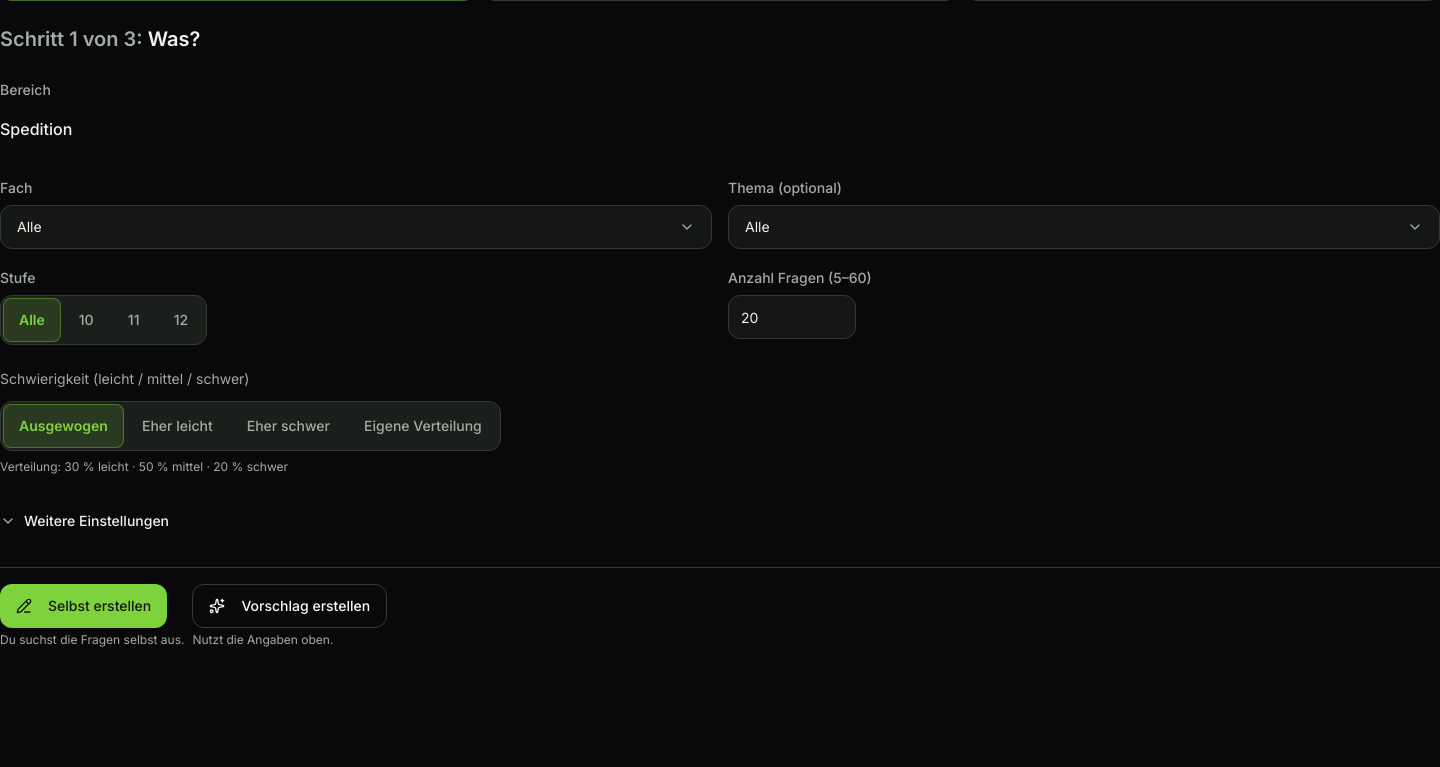
Test case: Nachweis anlegen in drei Schritten (PROJ-133) › führt von „Was?“ über „Prüfen“ zu „Wann und für wen?“ und hält die Schrittleiste aktuell
Click the button with aria-label "Fach: Alle": (29, 226) [0, 205, 712, 249]
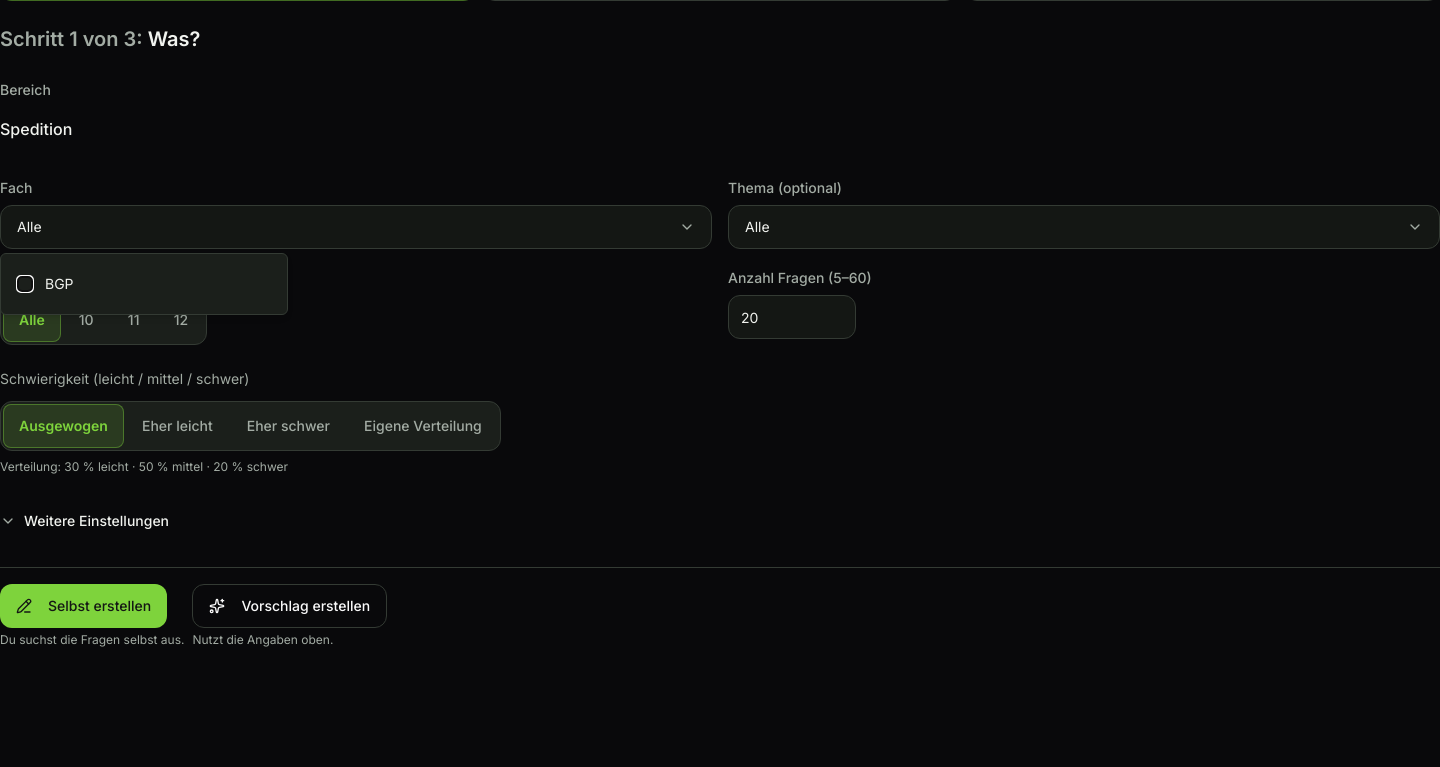
Click the checkbox named "BGP": (25, 284) [17, 276, 33, 292]
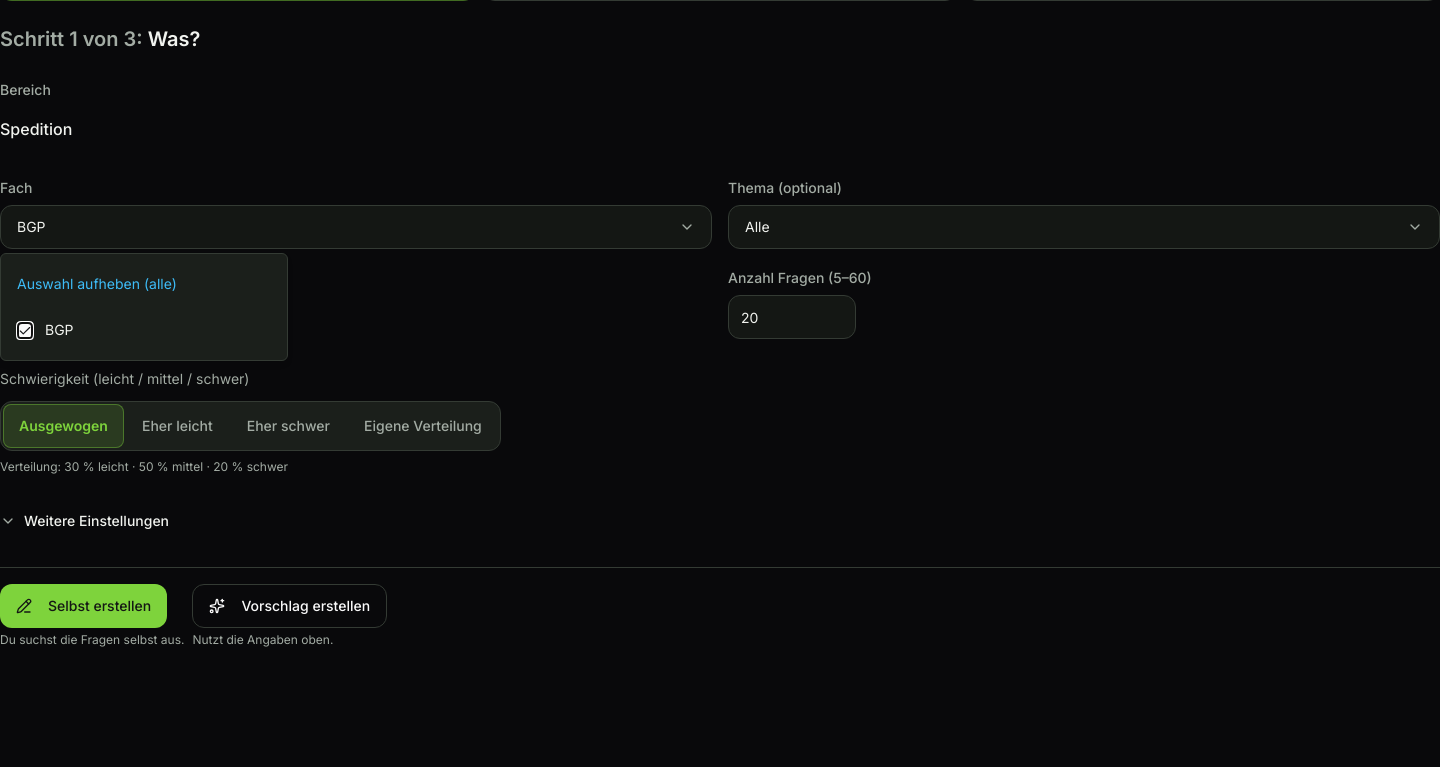
Press Escape in the checkbox named "BGP", box [17, 322, 33, 338]
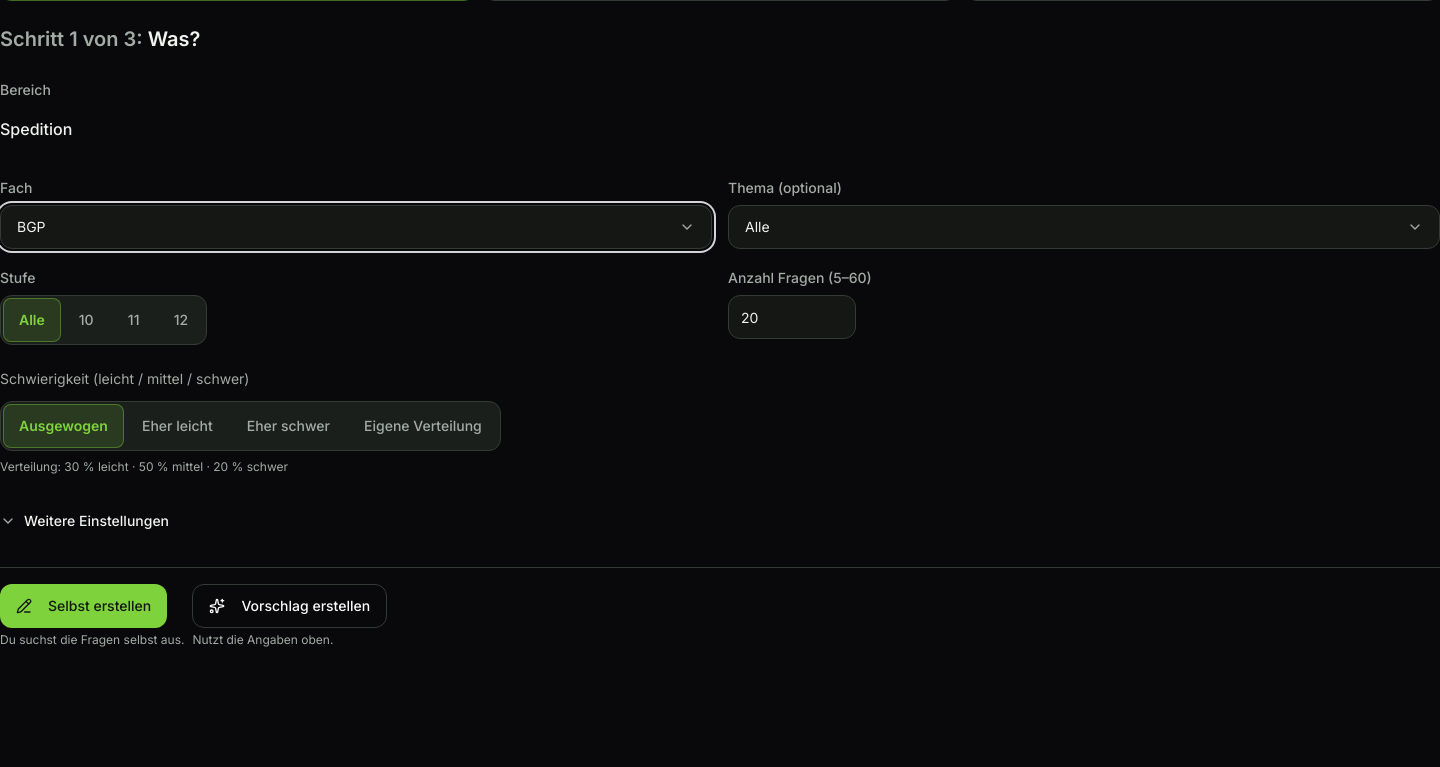
Click the button "Vorschlag erstellen": (290, 606) [192, 584, 387, 628]
(page scrolled)
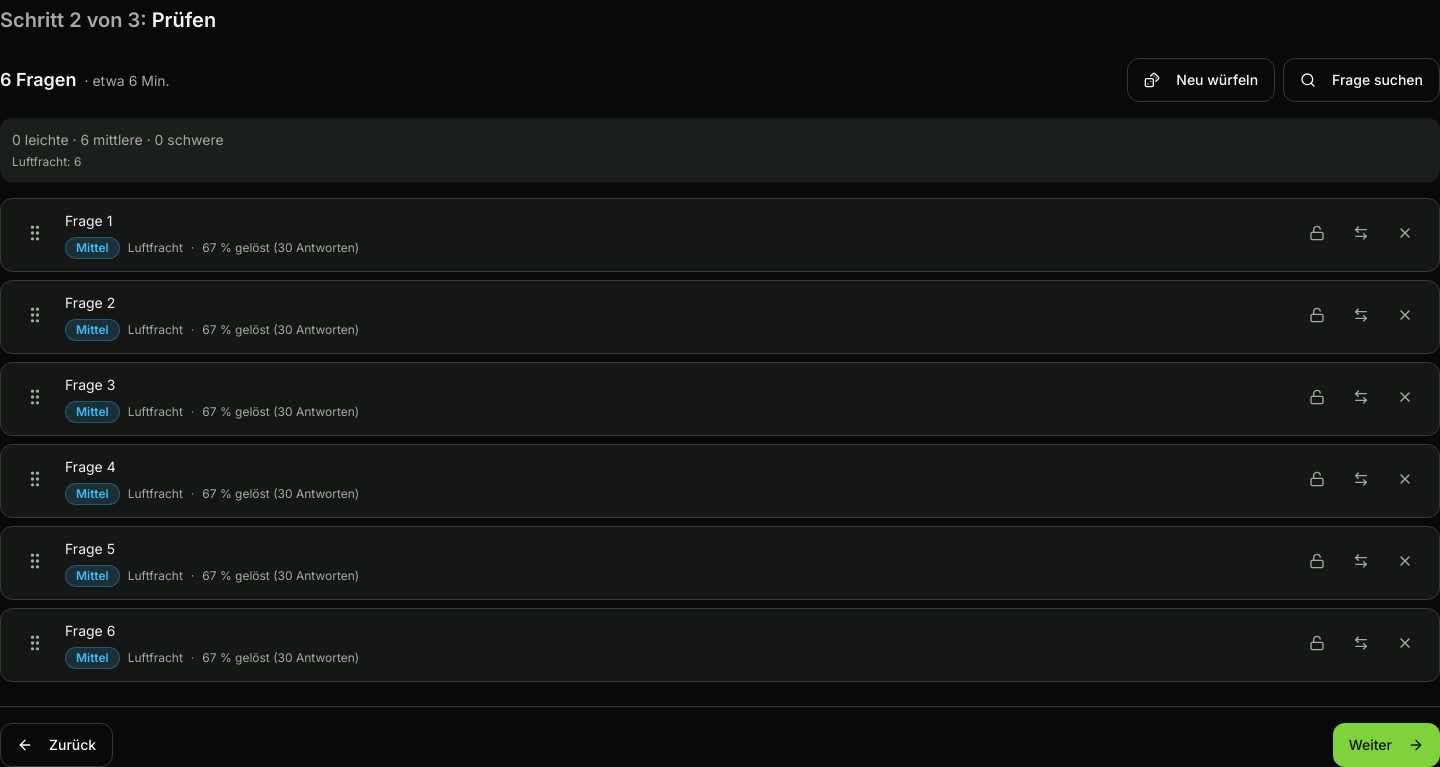
Expected: the text "6 Fragen· etwa 6 Min." is shown, [0, 66, 170, 94]
Click the button "Weiter": (1386, 745) [1333, 723, 1439, 766]
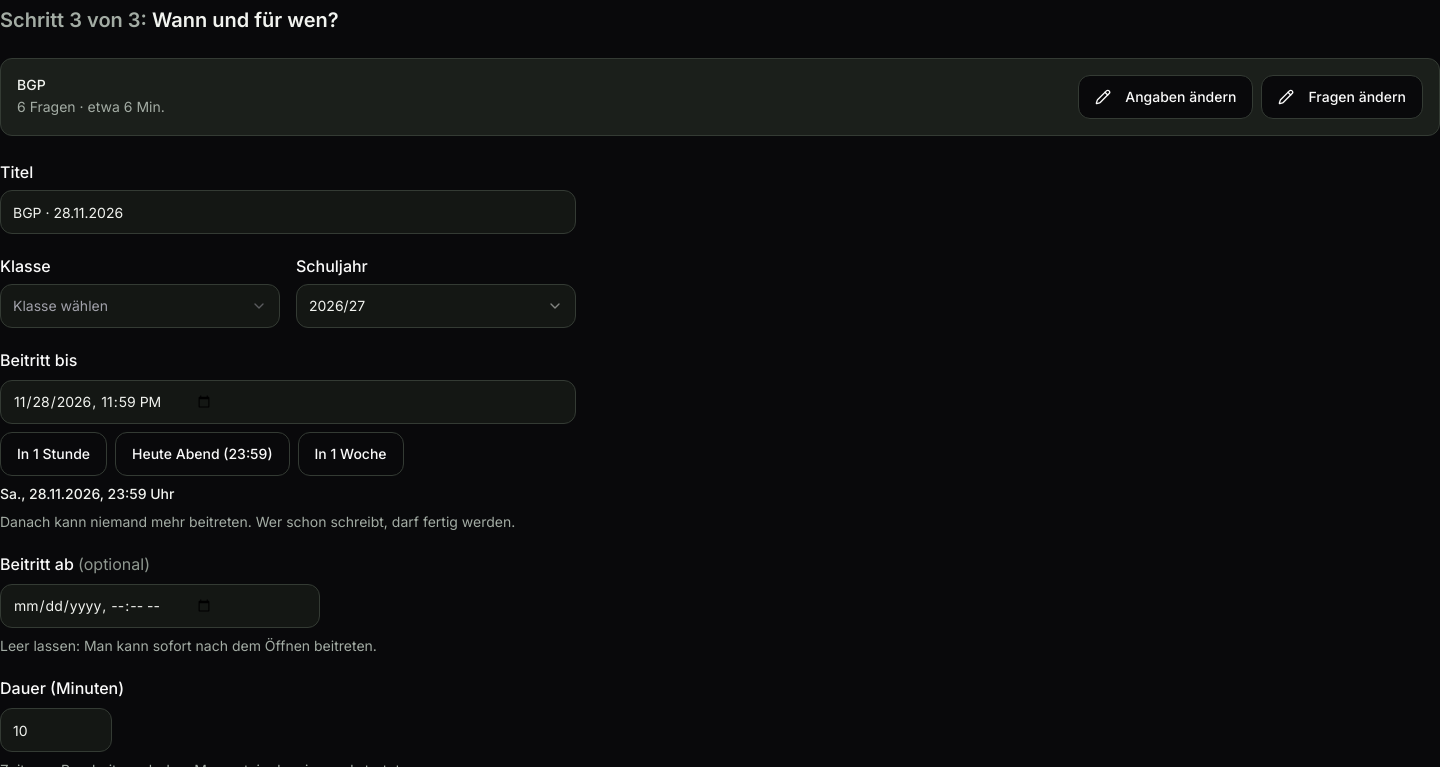
Expected: the text "Danach kann niemand mehr beitreten" is shown, [0, 513, 515, 530]
